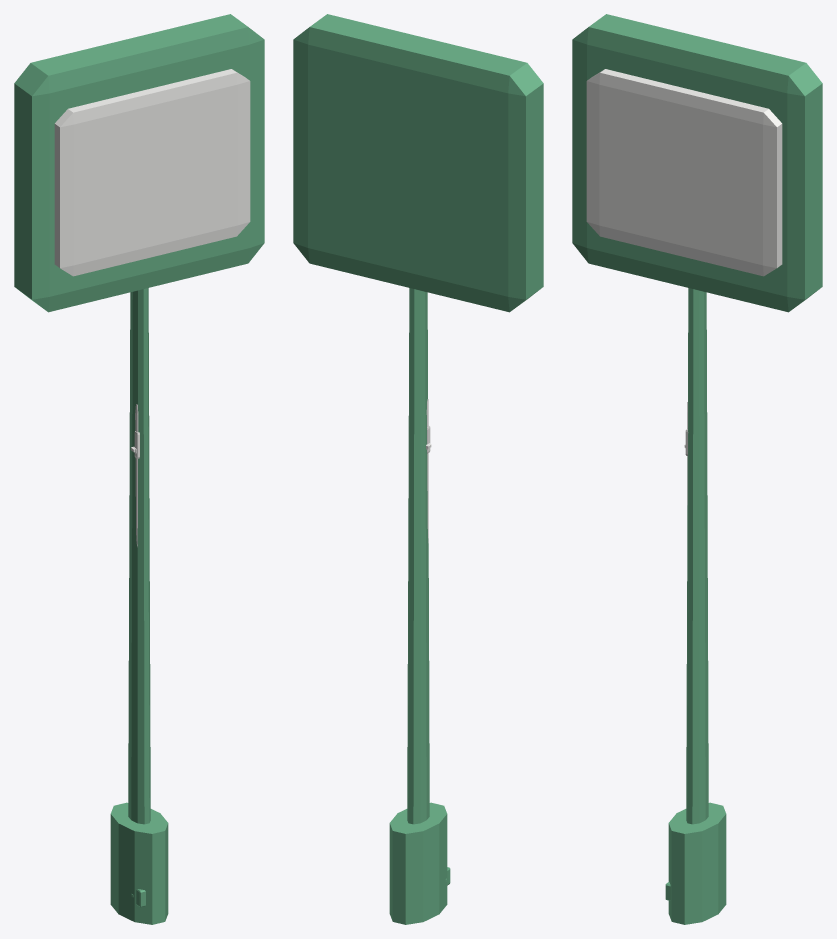
Rendered from b02_bike_route.glb.
3 renders of one model, left to right at view 1: azimuth 30°, elevation 25°; view 2: azimuth 150°, elevation 25°; view 3: azimuth 330°, elevation 25°, orthographic.
Parts seen in each view (by area): view 1: b02_bike_route; view 2: b02_bike_route; view 3: b02_bike_route.
Boxes of the visible parts, x1,y1,x2,y2 form: b02_bike_route: (14, 14, 264, 924); b02_bike_route: (293, 14, 543, 924); b02_bike_route: (572, 14, 822, 924).
Bounding box in the file's own units: 0.69 × 2.45 × 0.198.
